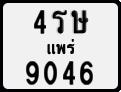letters: (70, 9, 89, 34), (24, 59, 40, 86), (51, 9, 68, 34), (32, 8, 47, 35), (43, 59, 58, 86), (79, 59, 94, 86), (61, 60, 76, 86)
province: (45, 38, 76, 56)
